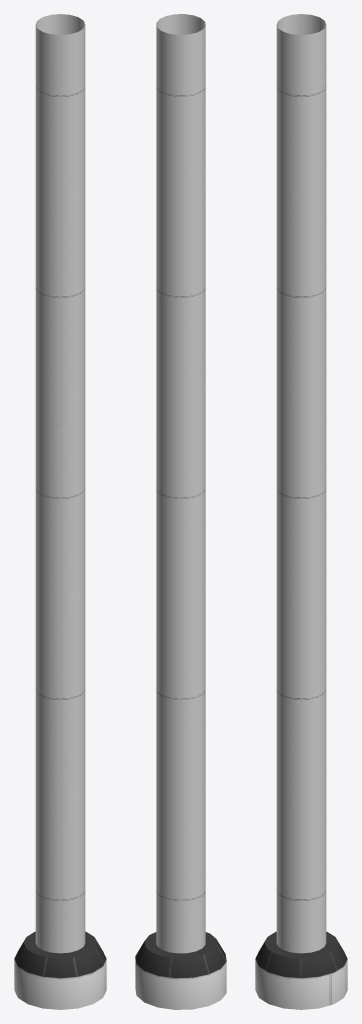
Rendered from pipe_A.fbx.
3 views of the same model, side by side, from view 1: azimuth 90°, elevation 25°; view 2: azimuth 150°, elevation 25°; view 3: azimuth 270°, elevation 25° (orthographic).
Visible parts, largest first — view 1: pipe_A; view 2: pipe_A; view 3: pipe_A.
Boxes of the visible parts, box(x1,y1,x2,y2) form: pipe_A: box(14, 14, 106, 1009); pipe_A: box(135, 14, 226, 1009); pipe_A: box(255, 14, 347, 1009).
Bounding box in the file's own units: 25.1 × 290 × 25.1.
